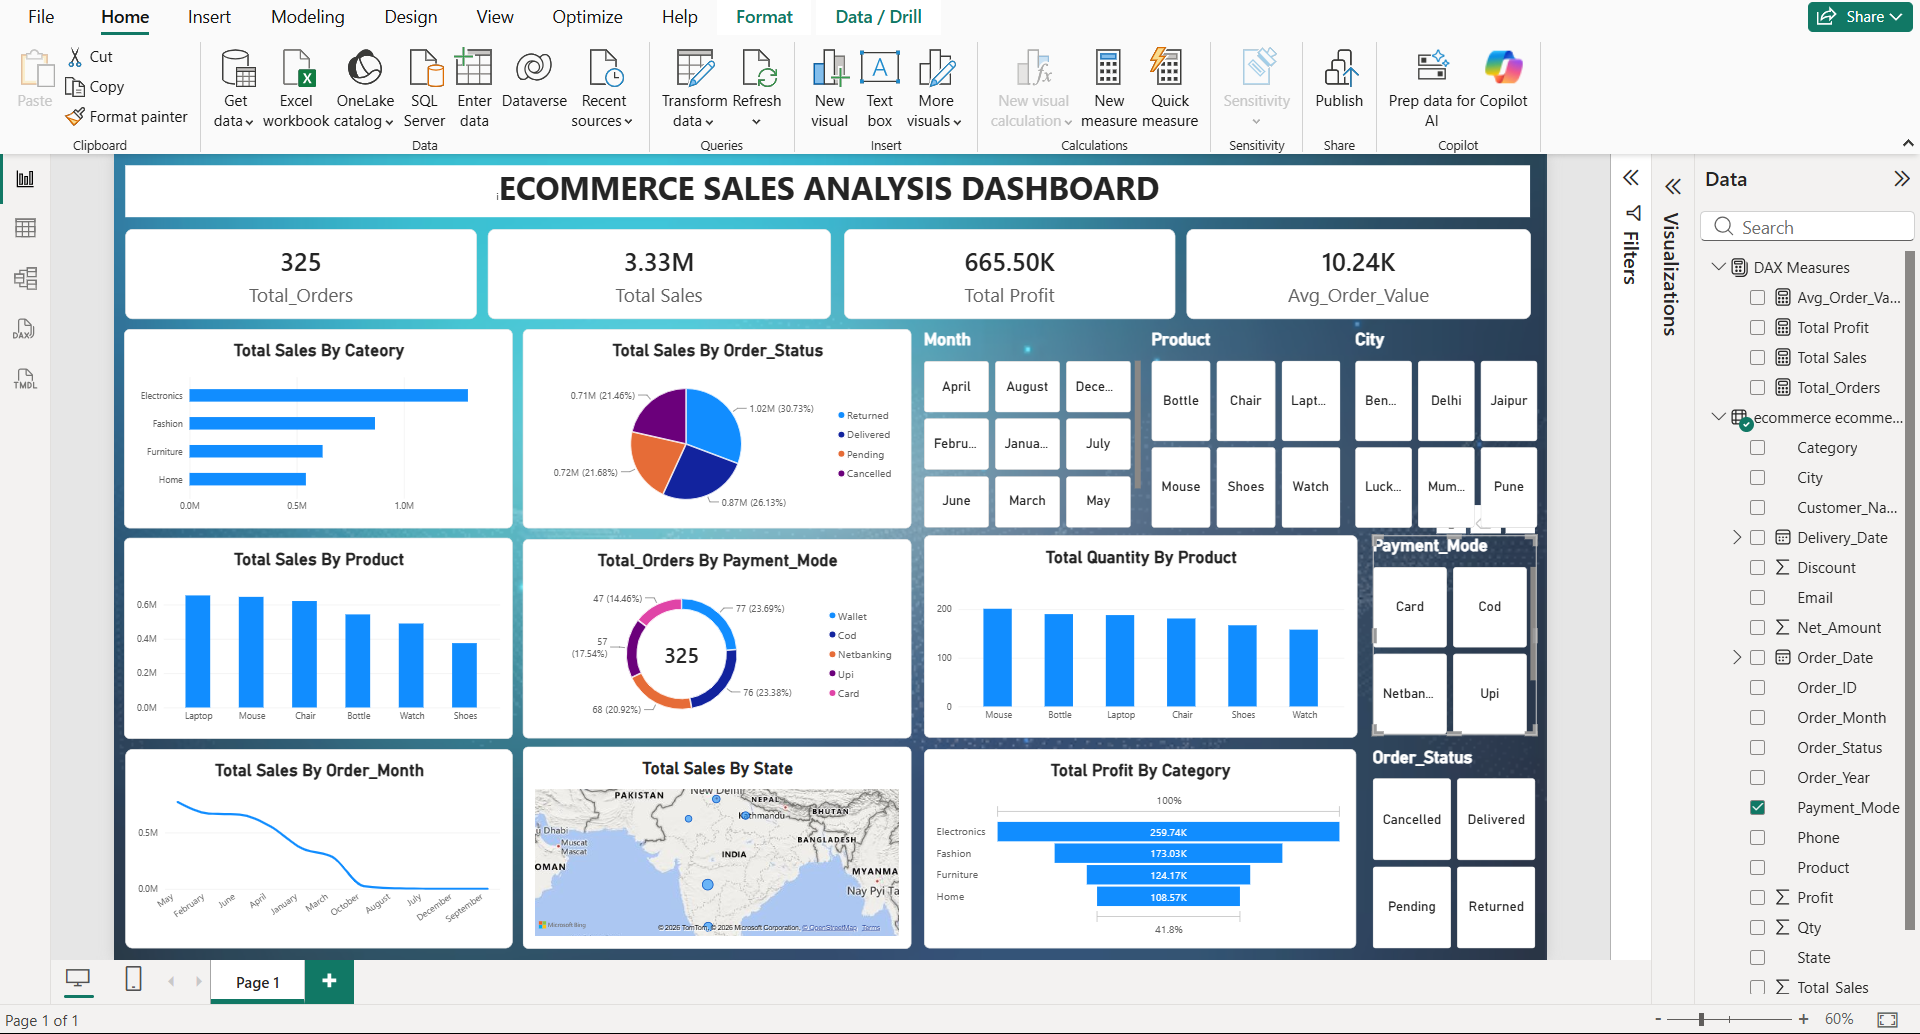

The dashboard page shown, as its layout file describes it:
{"tool":"powerbi","page":{"name":"Page 1","canvas":[1920,1080],"ordinal":0},"visuals":[{"type":"card","fields":{"Values":["DAX Measures.Total_Orders"]},"box":[15.4,100,471.2,121.2],"z":0},{"type":"card","fields":{"Values":["DAX Measures.Total Sales"]},"box":[500,100,459.6,121.2],"z":1},{"type":"card","fields":{"Values":["DAX Measures.Total Profit"]},"box":[978.8,100,444.2,121.2],"z":2},{"type":"card","fields":{"Values":["DAX Measures.Avg_Order_Value"]},"box":[1436.5,100,461.5,121.2],"z":3},{"type":"lineChart","fields":{"Y":["DAX Measures.Total Sales"],"Category":["ecommerce ecommerce_data.Order_Month"]},"box":[15.4,798.1,519.2,267.3],"z":4},{"type":"columnChart","fields":{"Y":["DAX Measures.Total Sales"],"Category":["ecommerce ecommerce_data.Product"]},"box":[13.5,513.5,521.2,269.2],"z":5},{"type":"columnChart","fields":{"Category":["ecommerce ecommerce_data.Product"],"Y":["Sum(ecommerce ecommerce_data.Qty)"]},"box":[1084.6,511.5,580.8,271.2],"z":6},{"type":"map","fields":{"Category":["ecommerce ecommerce_data.State","ecommerce ecommerce_data.City"],"Size":["DAX Measures.Total Sales"]},"box":[548.1,794.2,521.2,271.2],"z":7},{"type":"funnel","fields":{"Y":["DAX Measures.Total Profit"],"Category":["ecommerce ecommerce_data.Category"]},"box":[1084.6,798.1,578.8,267.3],"z":8},{"type":"donutChart","fields":{"Category":["ecommerce ecommerce_data.Payment_Mode"],"Y":["DAX Measures.Total_Orders"]},"box":[548.1,515.4,521.2,267.3],"z":9},{"type":"clusteredBarChart","fields":{"Category":["ecommerce ecommerce_data.Category"],"Y":["DAX Measures.Total Sales"]},"box":[13.5,234.6,521.2,267.3],"z":10},{"type":"pieChart","fields":{"Category":["ecommerce ecommerce_data.Order_Status"],"Y":["DAX Measures.Total Sales"]},"box":[548.1,234.6,521.2,267.3],"z":11},{"type":"advancedSlicerVisual","title":"Month","fields":{"Values":["ecommerce ecommerce_data.Order_Month"]},"box":[1084.6,234.6,290.4,267.3],"z":12},{"type":"advancedSlicerVisual","fields":{"Values":["ecommerce ecommerce_data.Order_Status"]},"box":[1686.5,794.2,219.2,271.2],"z":13},{"type":"advancedSlicerVisual","fields":{"Values":["ecommerce ecommerce_data.Payment_Mode"]},"box":[1686.5,511.5,219,267],"z":14},{"type":"advancedSlicerVisual","fields":{"Values":["ecommerce ecommerce_data.Product"]},"box":[1390.4,234.6,255.8,267.3],"z":15},{"type":"advancedSlicerVisual","fields":{"Values":["ecommerce ecommerce_data.City"]},"box":[1663.5,234.6,244.2,267.3],"z":16},{"type":"textbox","box":[100,100,300,300],"z":17},{"type":"textbox","box":[15.4,15.4,1882.7,69.2],"z":18}]}

Visuals, with their boxes on the page's 1920x1080 design canvas (x1, y1, x2, y2). These are canvas units, not pixel positions in the 1920x1034 screenshot, which may show the page scaled, cropped or inside an application window:
card - DAX Measures.Total_Orders: (left=15, top=100, right=487, bottom=221)
card - DAX Measures.Total Sales: (left=500, top=100, right=960, bottom=221)
card - DAX Measures.Total Profit: (left=979, top=100, right=1423, bottom=221)
card - DAX Measures.Avg_Order_Value: (left=1436, top=100, right=1898, bottom=221)
lineChart - DAX Measures.Total Sales x ecommerce ecommerce_data.Order_Month: (left=15, top=798, right=535, bottom=1065)
columnChart - DAX Measures.Total Sales x ecommerce ecommerce_data.Product: (left=14, top=514, right=535, bottom=783)
columnChart - ecommerce ecommerce_data.Product x Sum(ecommerce ecommerce_data.Qty): (left=1085, top=512, right=1665, bottom=783)
map - ecommerce ecommerce_data.State x ecommerce ecommerce_data.City: (left=548, top=794, right=1069, bottom=1065)
funnel - DAX Measures.Total Profit x ecommerce ecommerce_data.Category: (left=1085, top=798, right=1663, bottom=1065)
donutChart - ecommerce ecommerce_data.Payment_Mode x DAX Measures.Total_Orders: (left=548, top=515, right=1069, bottom=783)
clusteredBarChart - ecommerce ecommerce_data.Category x DAX Measures.Total Sales: (left=14, top=235, right=535, bottom=502)
pieChart - ecommerce ecommerce_data.Order_Status x DAX Measures.Total Sales: (left=548, top=235, right=1069, bottom=502)
"Month" advancedSlicerVisual: (left=1085, top=235, right=1375, bottom=502)
advancedSlicerVisual - ecommerce ecommerce_data.Order_Status: (left=1686, top=794, right=1906, bottom=1065)
advancedSlicerVisual - ecommerce ecommerce_data.Payment_Mode: (left=1686, top=512, right=1906, bottom=778)
advancedSlicerVisual - ecommerce ecommerce_data.Product: (left=1390, top=235, right=1646, bottom=502)
advancedSlicerVisual - ecommerce ecommerce_data.City: (left=1664, top=235, right=1908, bottom=502)
textbox: (left=100, top=100, right=400, bottom=400)
textbox: (left=15, top=15, right=1898, bottom=85)
